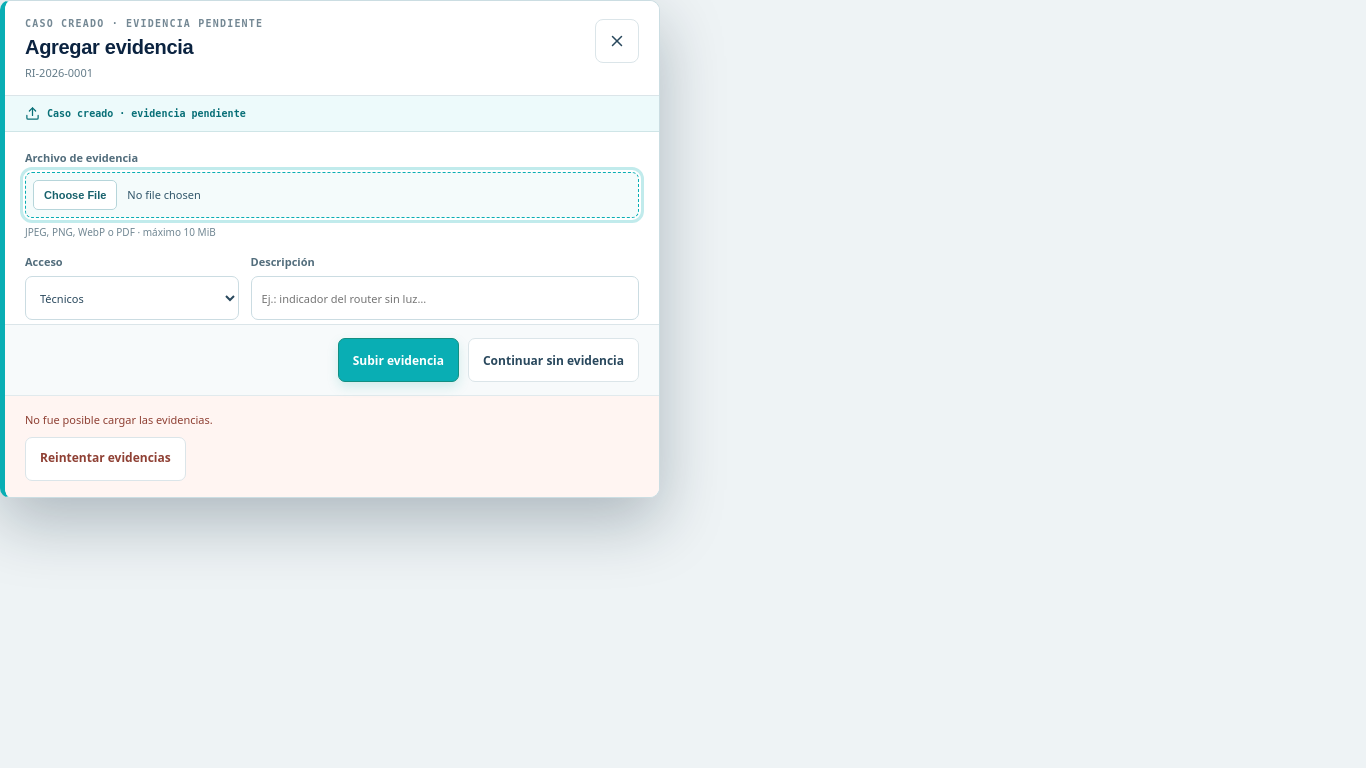
Scenario: RecurrenceEvidencePanel › offers retry after the evidence list fails
Expected: the message "No fue posible cargar las evidencias. Reintentar evidencias" is shown, x1=5 y1=395 x2=659 y2=497
What coordinates should you click on to do the following:
click the button "Reintentar evidencias"
I would click on:
 (105, 459)
Its box is x1=25 y1=437 x2=186 y2=481.
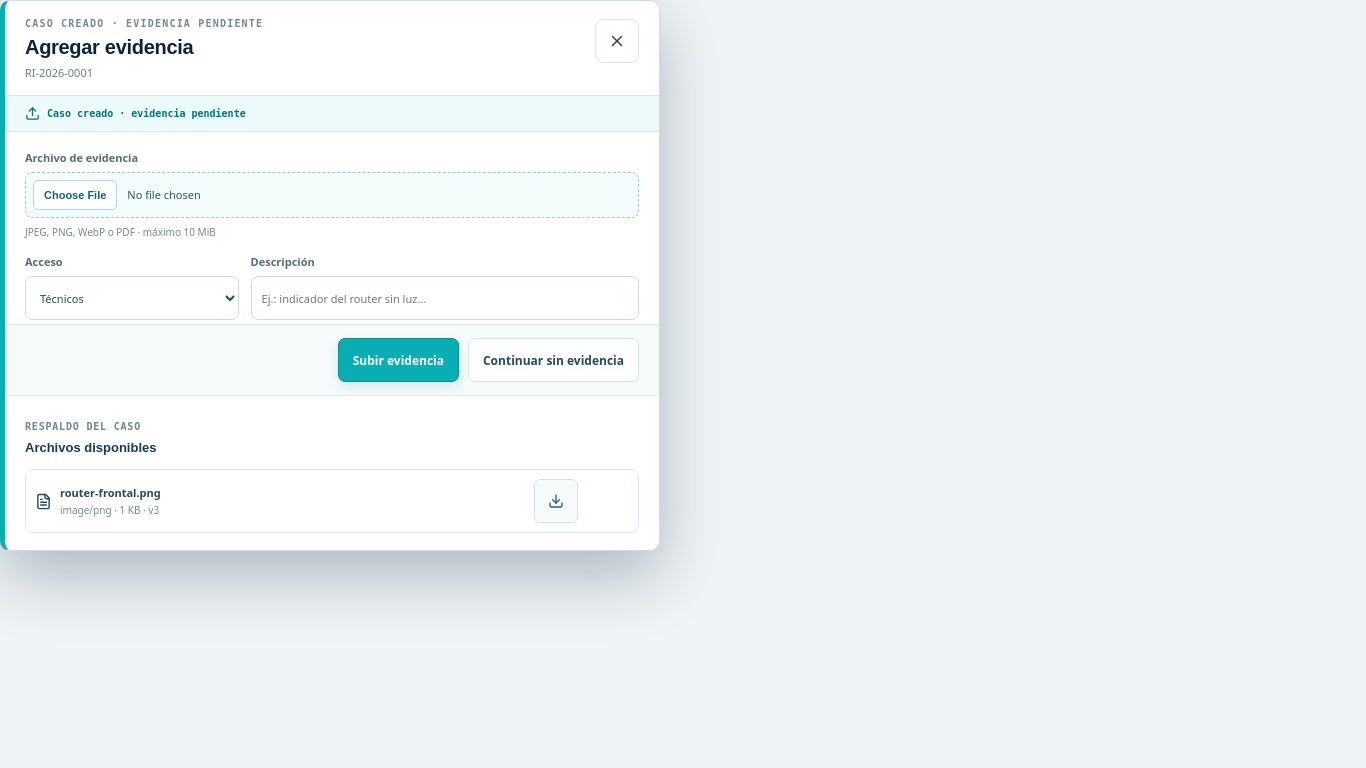
Result: the text "router-frontal.png" is shown at x1=60 y1=485 x2=161 y2=500
